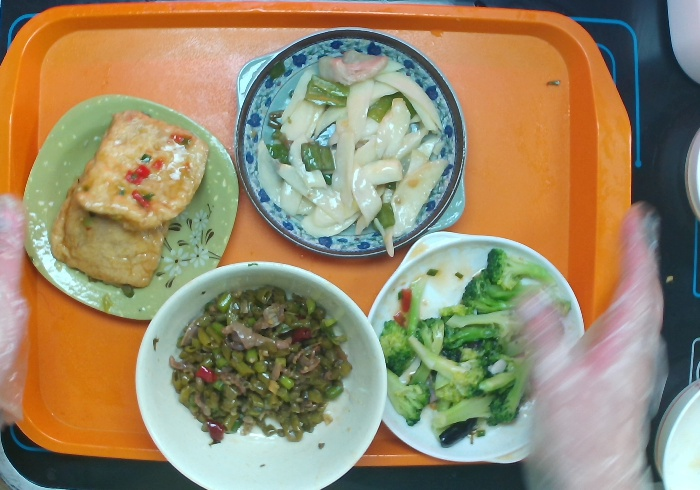NLDX-Bai_Se_Shuang_Er_Die: (364, 228, 586, 467)
NLDX-Bai_Se_Yuan_Wan: (133, 258, 388, 490)
NLDX-Lv_Hua_Fang_Die: (21, 92, 240, 321)
NLDX-Qing_Hua_Shuang_Er_Die: (233, 25, 469, 258)
